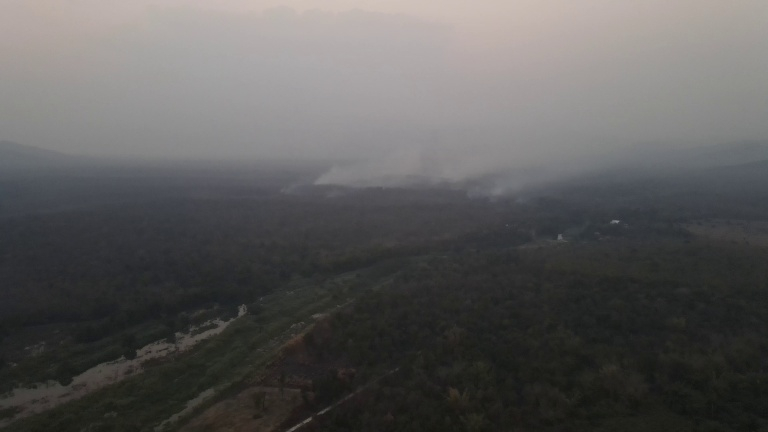smoke: (303, 121, 546, 205)
